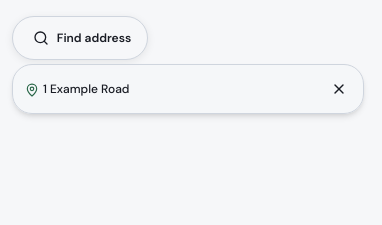
Test: offers an explicit retry and keeps the previous selected address on failure
Later steps or results of the test are not shown.
Replace the text in the search field named "Find an address or postal code" with "123456" at (80, 38), box [12,16,148,60]
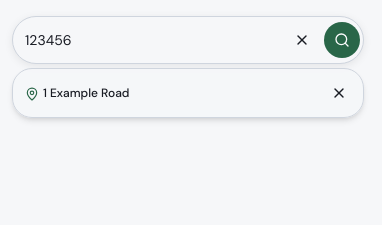
Click the button named "Search map addresses" at (342, 40), box [324,22,360,58]
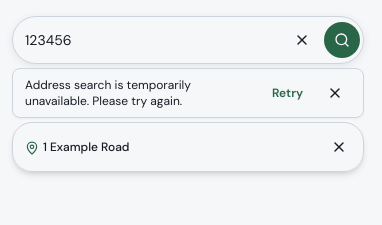
Expected: the button with aria-label "Show 1 Example Road on map again" is shown, [17,127,315,167]
Result: the message shows "Address search is temporarily unavailable. Please try again." at [25,77,191,109]
Click the button with aria-label "Retry address search" at (288, 93), box [264,77,311,109]
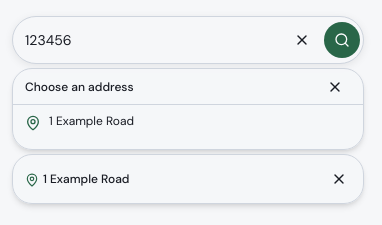
Result: the button "1 Example Road" below "Choose an address" is shown at [13,105,363,149]
